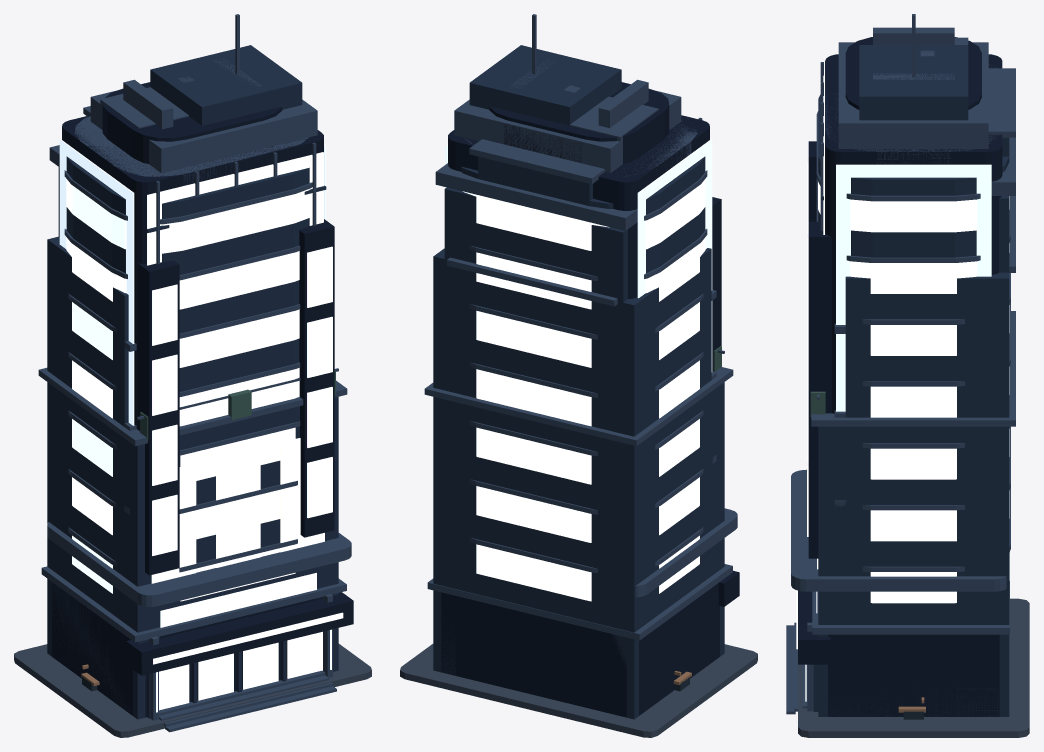
Rendered from city-kit-desktop.glb.
3 views of the same model, side by side, from view 1: azimuth 30°, elevation 25°; view 2: azimuth 150°, elevation 25°; view 3: azimuth 270°, elevation 25° (orthographic). The views are drawn at different scales.
Visible parts, largest first — view 1: City_Rounded_Stone_desktop, City_Arcade_Stone_desktop, City_Rounded_Windows_desktop, City_Glass_Stone_desktop, City_Station_Stone_desktop, City_Terrace_Stone_desktop, City_Shop_Stone_desktop, City_Shop_Windows_desktop, City_Terrace_Windows_desktop, City_Glass_Windows_desktop, City_Arcade_Windows_desktop, City_Meeting_Stone_desktop (+1 smaller); view 2: City_Arcade_Stone_desktop, City_Rounded_Windows_desktop, City_Rounded_Stone_desktop, City_Glass_Stone_desktop, City_Shop_Stone_desktop, City_Terrace_Stone_desktop, City_Meeting_Stone_desktop, City_Station_Stone_desktop, City_Glass_Windows_desktop; view 3: City_Arcade_Stone_desktop, City_Glass_Stone_desktop, City_Rounded_Windows_desktop, City_Rounded_Stone_desktop, City_Terrace_Stone_desktop, City_Station_Stone_desktop, City_Shop_Stone_desktop, City_Meeting_Stone_desktop, City_Glass_Windows_desktop, City_Shop_Windows_desktop.
Part boxes in pixels (left/top/right/bottom): City_Rounded_Stone_desktop: left=64, top=58, right=312, bottom=613; City_Arcade_Stone_desktop: left=41, top=76, right=353, bottom=720; City_Rounded_Windows_desktop: left=66, top=179, right=310, bottom=601; City_Glass_Stone_desktop: left=62, top=14, right=326, bottom=429; City_Station_Stone_desktop: left=47, top=522, right=351, bottom=732; City_Terrace_Stone_desktop: left=38, top=106, right=347, bottom=631; City_Shop_Stone_desktop: left=49, top=87, right=334, bottom=575; City_Shop_Windows_desktop: left=152, top=246, right=332, bottom=555; City_Terrace_Windows_desktop: left=151, top=438, right=324, bottom=583; City_Glass_Windows_desktop: left=59, top=139, right=326, bottom=425; City_Arcade_Windows_desktop: left=153, top=612, right=343, bottom=712; City_Meeting_Stone_desktop: left=14, top=644, right=371, bottom=737; City_Arcade_Stone_desktop: left=427, top=85, right=739, bottom=717; City_Rounded_Windows_desktop: left=462, top=179, right=705, bottom=601; City_Rounded_Stone_desktop: left=461, top=58, right=707, bottom=572; City_Glass_Stone_desktop: left=448, top=14, right=709, bottom=298; City_Shop_Stone_desktop: left=435, top=96, right=721, bottom=447; City_Terrace_Stone_desktop: left=424, top=124, right=733, bottom=632; City_Meeting_Stone_desktop: left=400, top=644, right=757, bottom=737; City_Station_Stone_desktop: left=433, top=508, right=737, bottom=719; City_Glass_Windows_desktop: left=445, top=139, right=712, bottom=371; City_Arcade_Stone_desktop: left=798, top=50, right=1009, bottom=716; City_Glass_Stone_desktop: left=820, top=14, right=1002, bottom=413; City_Rounded_Windows_desktop: left=818, top=181, right=1009, bottom=603; City_Rounded_Stone_desktop: left=816, top=27, right=1010, bottom=624; City_Terrace_Stone_desktop: left=810, top=68, right=1015, bottom=624; City_Station_Stone_desktop: left=786, top=469, right=1009, bottom=716; City_Shop_Stone_desktop: left=808, top=37, right=1015, bottom=558; City_Meeting_Stone_desktop: left=798, top=598, right=1029, bottom=737; City_Glass_Windows_desktop: left=823, top=70, right=991, bottom=411; City_Shop_Windows_desktop: left=807, top=163, right=808, bottom=536.
Size of the model in its own units: 23 by 55 by 17.85.
